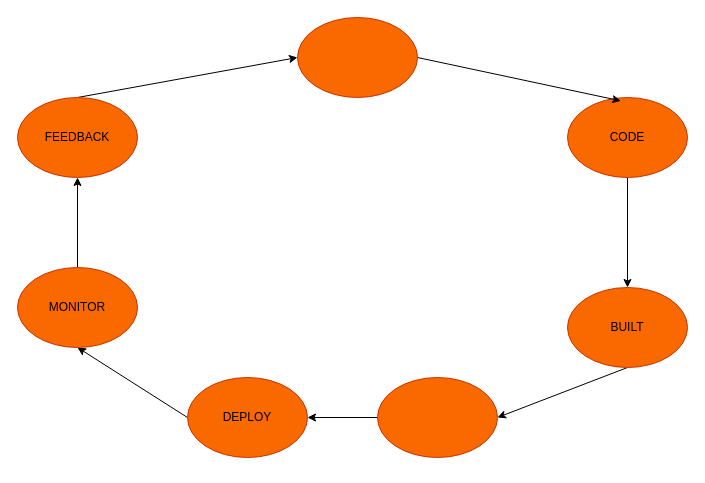
Image size: 705x483. Some labels were removed from this diagram. Each missing label, with the centre of its shape:
"PLAN" goes at point 357,57.
"TEST" goes at point 437,417.
